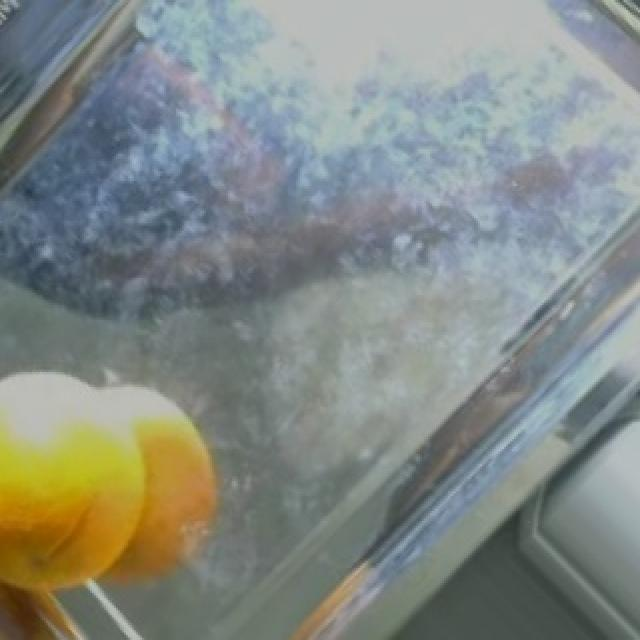Fruit: (4, 387, 246, 618)
